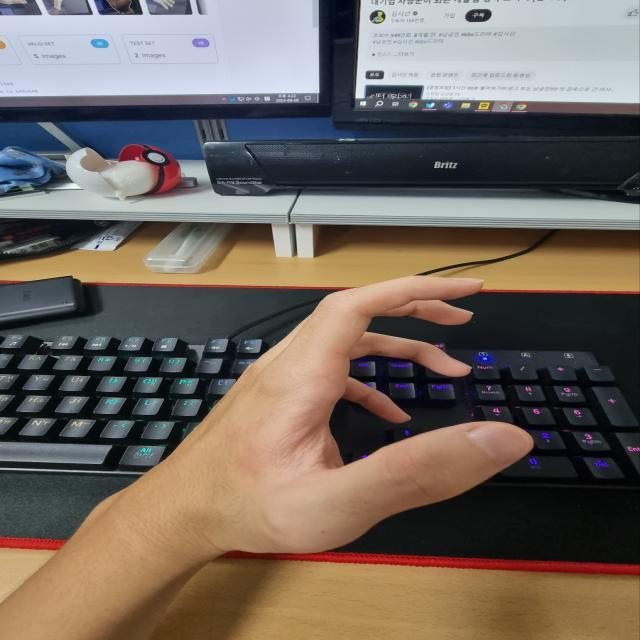keyboard-with-hands: (0, 336, 640, 493)
